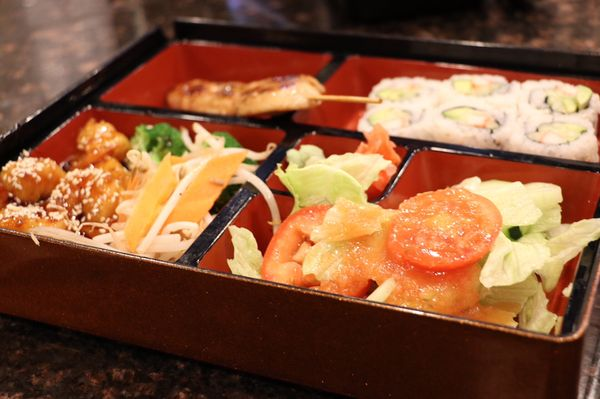curry: (130, 122, 189, 164)
sushi: (1, 81, 600, 390)
